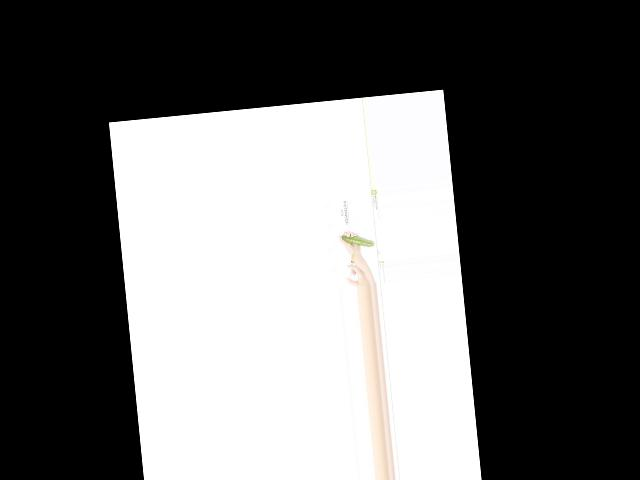cucumber: (341, 232, 374, 250)
